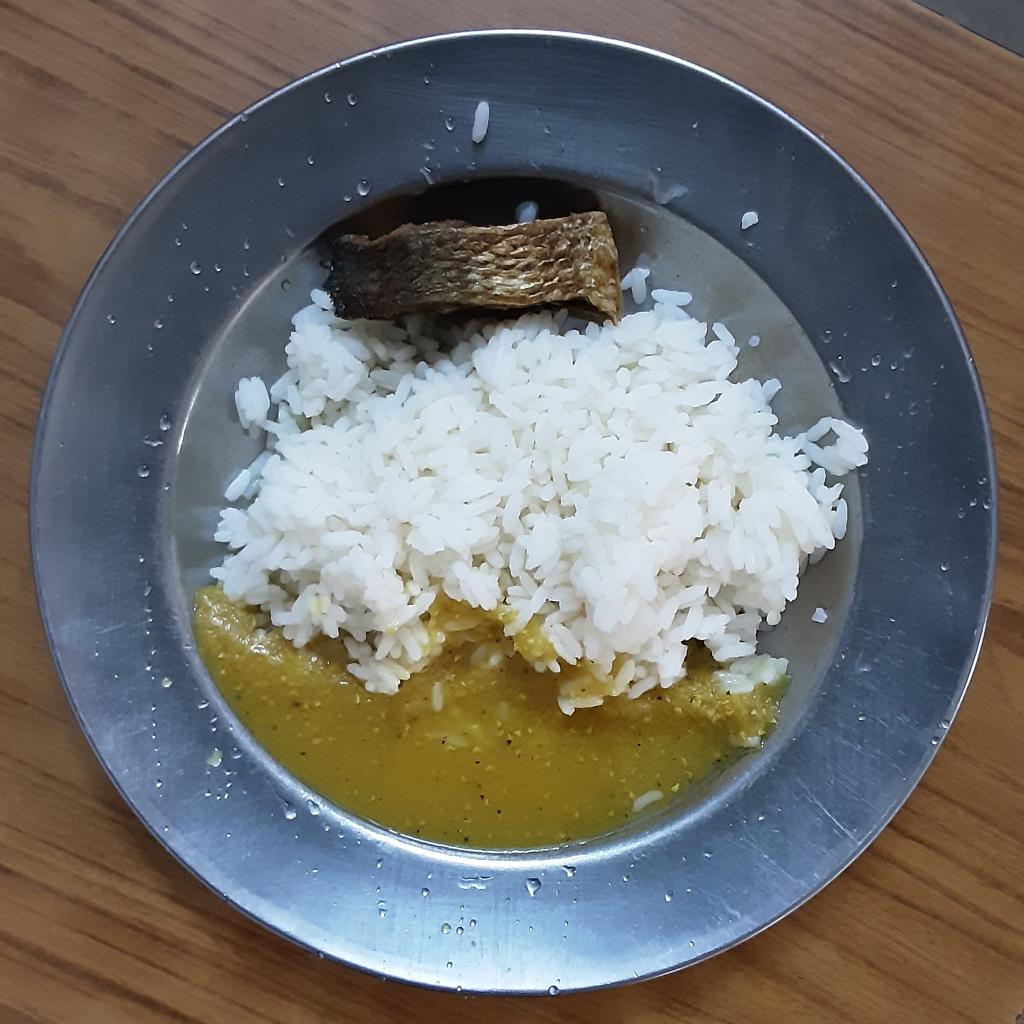daal: (193, 589, 794, 857)
fish: (331, 209, 621, 319)
rice: (203, 262, 870, 717), (473, 99, 492, 146)
